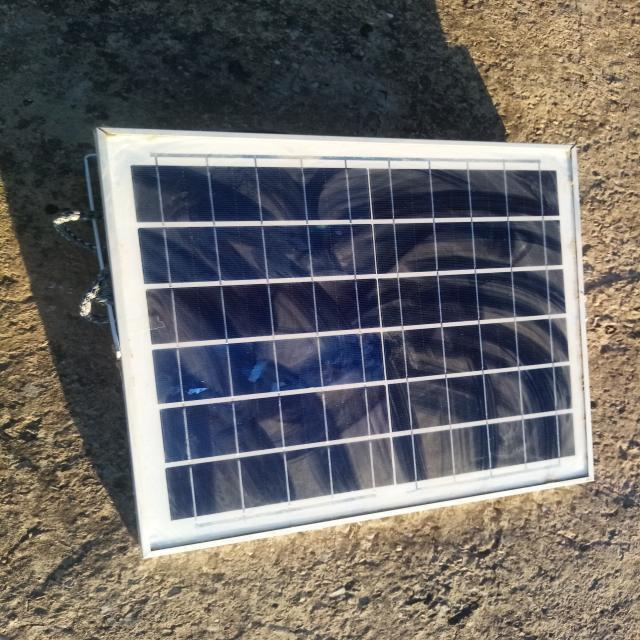Anomaly Solar Panel: (105, 157, 590, 541)
Surface Contaminant: (130, 165, 577, 520)
